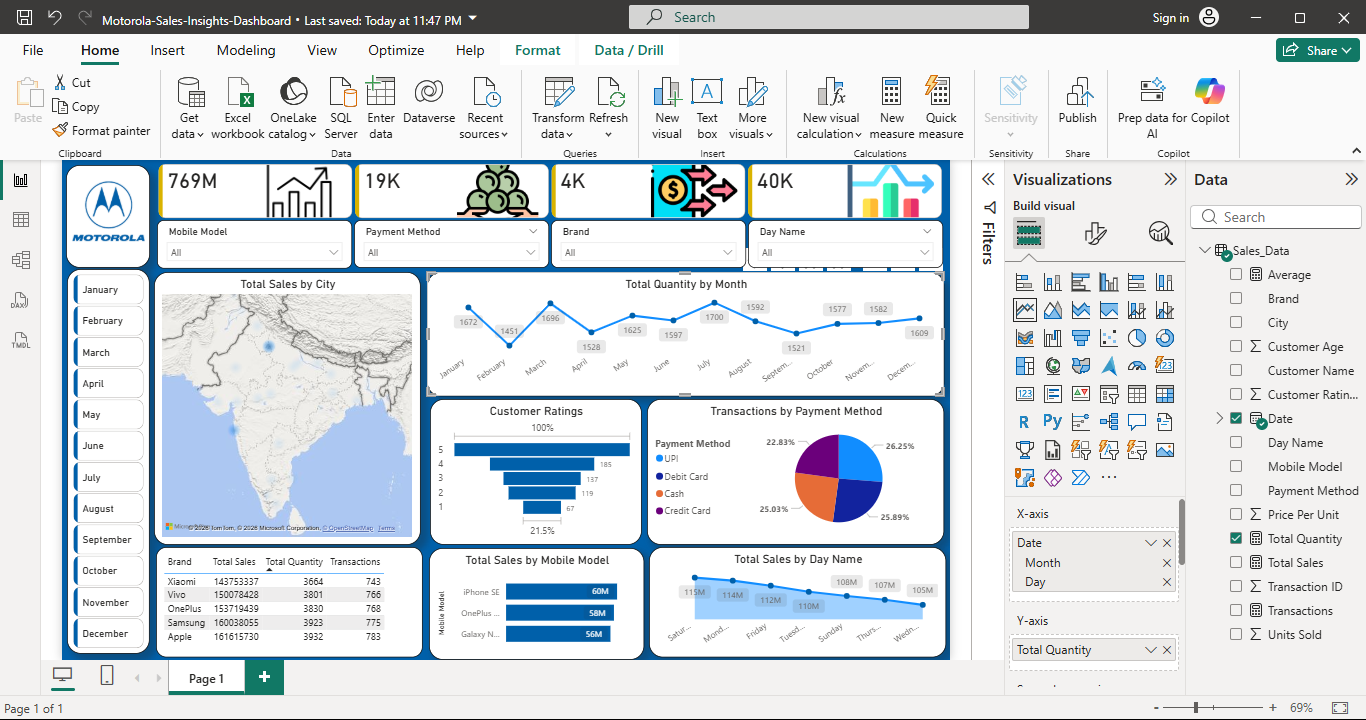

What the dashboard file says about the page in this screenshot:
{"tool":"powerbi","page":{"name":"Page 1","canvas":[1280,720],"ordinal":0},"visuals":[{"type":"shape","box":[5.5,6.9,120.8,148.2],"z":0},{"type":"image","box":[9.6,16.5,113.9,116.6],"z":1000},{"type":"shape","box":[6.9,156.4,119.4,554.4],"z":2000},{"type":"advancedSlicerVisual","fields":{"Values":["Sales_Data.Date.Variation.Date Hierarchy.Month"]},"box":[11,160.5,111.1,548.9],"z":3000},{"type":"cardVisual","fields":{"Data":["Sales_Data.Total Sales","Sales_Data.Total Quantity","Sales_Data.Transactions","Sales_Data.Average"]},"box":[134,5.6,1140.1,83.7],"z":4000},{"type":"map","fields":{"Category":["Sales_Data.City"],"Size":["Sales_Data.Total Sales"]},"box":[132.9,160.8,384.1,393.1],"z":5000},{"type":"lineChart","fields":{"Y":["Sales_Data.Total Quantity"],"Category":["Sales_Data.Date.Variation.Date Hierarchy.Month","Sales_Data.Date.Variation.Date Hierarchy.Day"]},"box":[525.9,160.8,744.8,178.7],"z":6000},{"type":"clusteredBarChart","fields":{"Category":["Sales_Data.Mobile Model"],"Y":["Sales_Data.Total Sales"]},"box":[528.3,558.5,310.1,160.5],"z":7000},{"type":"pieChart","fields":{"Category":["Sales_Data.Payment Method"],"Y":["Sales_Data.Transactions"]},"box":[842.5,344.4,428.1,209.9],"z":8000},{"type":"funnel","title":"Customer Ratings","fields":{"Category":["Sales_Data.Customer Ratings"],"Y":["CountNonNull(Sales_Data.Customer Ratings)"]},"box":[529.7,344.4,304.6,209.9],"z":9000},{"type":"areaChart","fields":{"Category":["Sales_Data.Day Name"],"Y":["Sales_Data.Total Sales"]},"box":[845.3,557.1,428.1,159.2],"z":10000},{"type":"tableEx","fields":{"Values":["Sales_Data.Brand","Sales_Data.Total Sales","Sales_Data.Total Quantity","Sales_Data.Transactions"]},"box":[135.8,557.1,384.2,159.2],"z":11000},{"type":"slicer","fields":{"Values":["Sales_Data.Mobile Model"]},"box":[136.2,87.1,281.4,70.3],"z":12000},{"type":"slicer","fields":{"Values":["Sales_Data.Payment Method"]},"box":[421,87.1,281.4,69.2],"z":13000},{"type":"slicer","fields":{"Values":["Sales_Data.Brand"]},"box":[703.5,87.1,281.4,69.2],"z":14000},{"type":"slicer","fields":{"Values":["Sales_Data.Day Name"]},"box":[988.2,87.1,281.4,69.2],"z":15000}]}

Visuals, with their boxes on the page's 1280x720 design canvas (x1, y1, x2, y2). These are canvas units, not pixel positions in the 1366x720 screenshot, which may show the page scaled, cropped or inside an application window:
shape: 6,7,126,155
image: 10,16,124,133
shape: 7,156,126,711
advancedSlicerVisual - Sales_Data.Date.Variation.Date Hierarchy.Month: 11,160,122,709
cardVisual - Sales_Data.Total Sales x Sales_Data.Total Quantity: 134,6,1274,89
map - Sales_Data.City x Sales_Data.Total Sales: 133,161,517,554
lineChart - Sales_Data.Total Quantity x Sales_Data.Date.Variation.Date Hierarchy.Month: 526,161,1271,340
clusteredBarChart - Sales_Data.Mobile Model x Sales_Data.Total Sales: 528,558,838,719
pieChart - Sales_Data.Payment Method x Sales_Data.Transactions: 842,344,1271,554
"Customer Ratings" funnel: 530,344,834,554
areaChart - Sales_Data.Day Name x Sales_Data.Total Sales: 845,557,1273,716
tableEx - Sales_Data.Brand x Sales_Data.Total Sales: 136,557,520,716
slicer - Sales_Data.Mobile Model: 136,87,418,157
slicer - Sales_Data.Payment Method: 421,87,702,156
slicer - Sales_Data.Brand: 704,87,985,156
slicer - Sales_Data.Day Name: 988,87,1270,156
